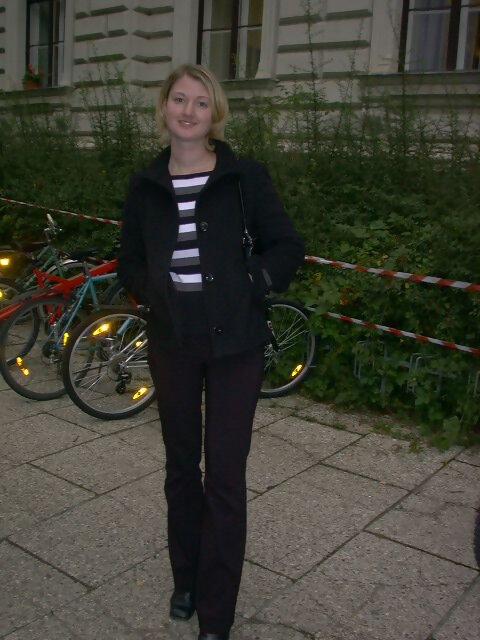person: (114, 53, 307, 640)
